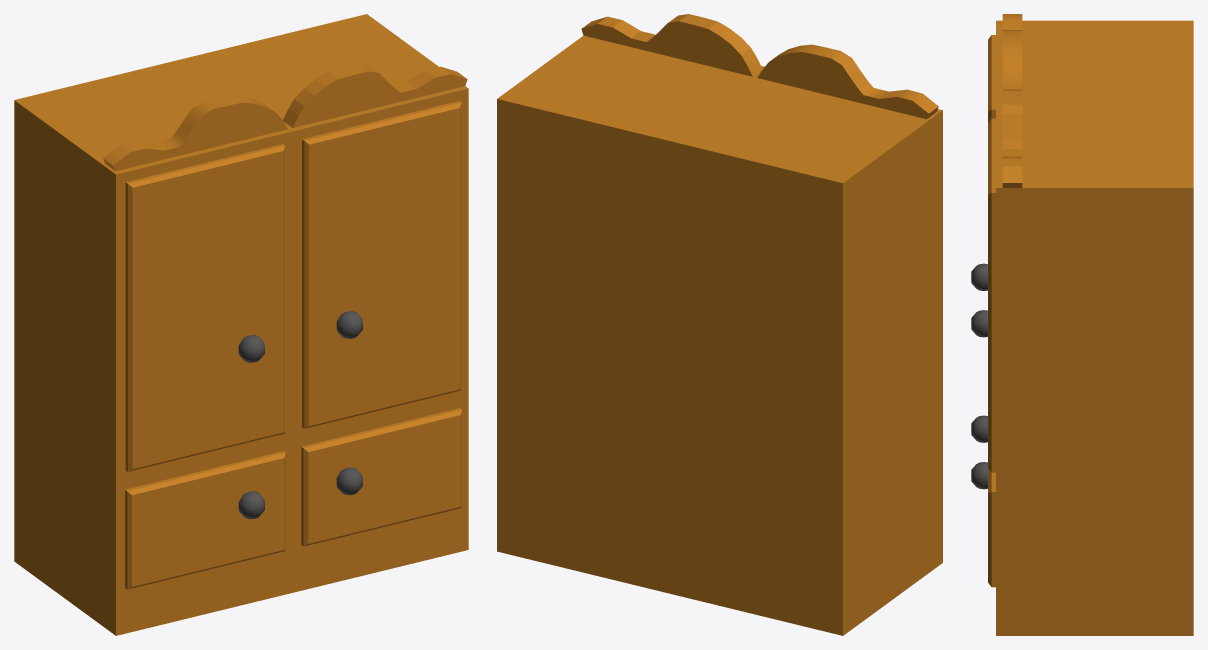
File: Asset009_Guardaroupa.fbx
3 renders of one model, left to right at view 1: azimuth 30°, elevation 25°; view 2: azimuth 150°, elevation 25°; view 3: azimuth 270°, elevation 25°, orthographic. The views are drawn at different scales.
Visible parts, largest first — view 1: Cube, Porta_2, Porta_1, Gaveta_1, Gaveta_2, Extrude; view 2: Cube, Extrude; view 3: Cube, Extrude, Porta_2, Gaveta_2, Porta_1, Sphere_2, Sphere, Sphere_3, Sphere_1.
Part boxes in pixels (<box>): Cube: <box>14,14,468,635</box>; Porta_2: <box>302,101,461,428</box>; Porta_1: <box>125,144,284,471</box>; Gaveta_1: <box>125,451,285,589</box>; Gaveta_2: <box>301,408,461,546</box>; Extrude: <box>103,64,467,171</box>; Cube: <box>497,35,942,635</box>; Extrude: <box>581,14,938,119</box>; Cube: <box>996,20,1193,635</box>; Extrude: <box>1002,14,1022,187</box>; Porta_2: <box>988,118,995,472</box>; Gaveta_2: <box>988,468,995,587</box>; Porta_1: <box>988,35,995,122</box>; Sphere_2: <box>971,415,987,442</box>; Sphere: <box>971,310,987,337</box>; Sphere_3: <box>971,462,987,489</box>; Sphere_1: <box>971,263,987,290</box>.
Bounding box in the file's own units: 201 × 271 × 112.
